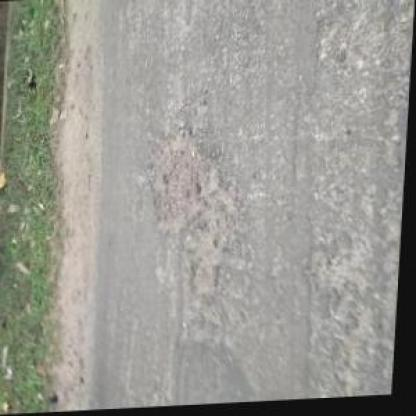pothole: (138, 125, 245, 301)
